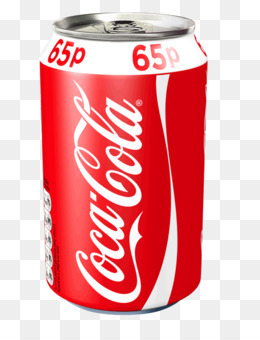coke: (42, 12, 202, 313)
